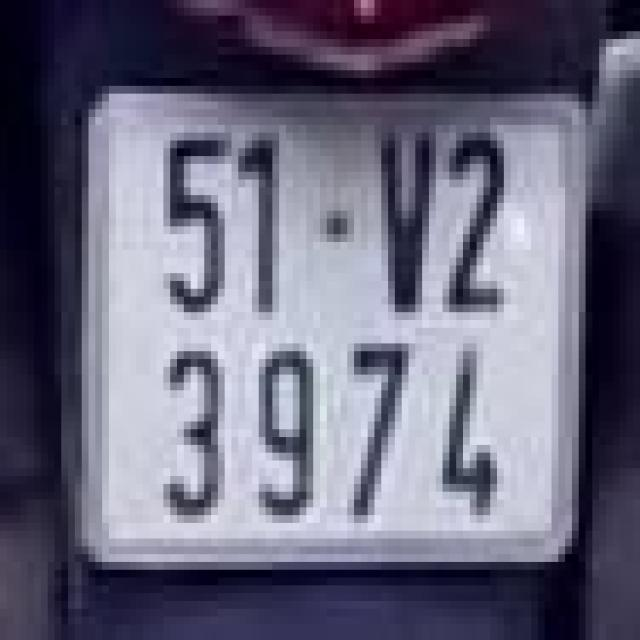1: (235, 125, 296, 320)
2: (446, 125, 514, 328)
3: (150, 339, 238, 527)
4: (439, 332, 514, 527)
5: (150, 121, 231, 324)
7: (334, 316, 422, 535)
9: (242, 336, 323, 530)
V: (358, 109, 439, 312)
